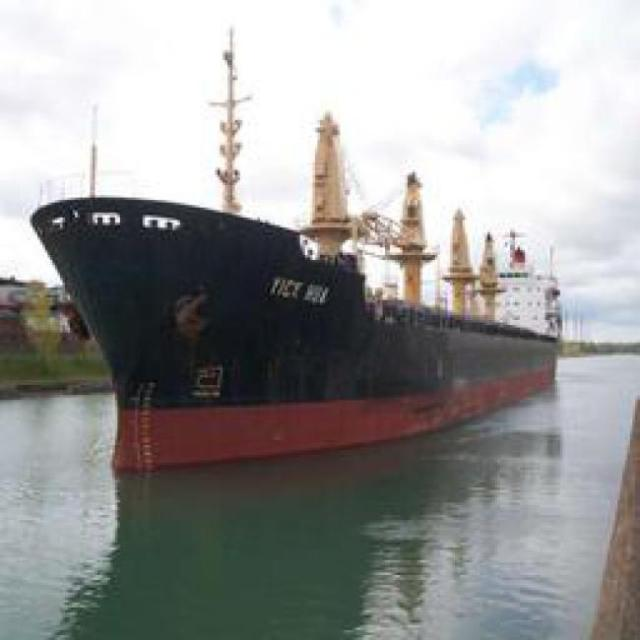boat: (14, 110, 574, 462)
